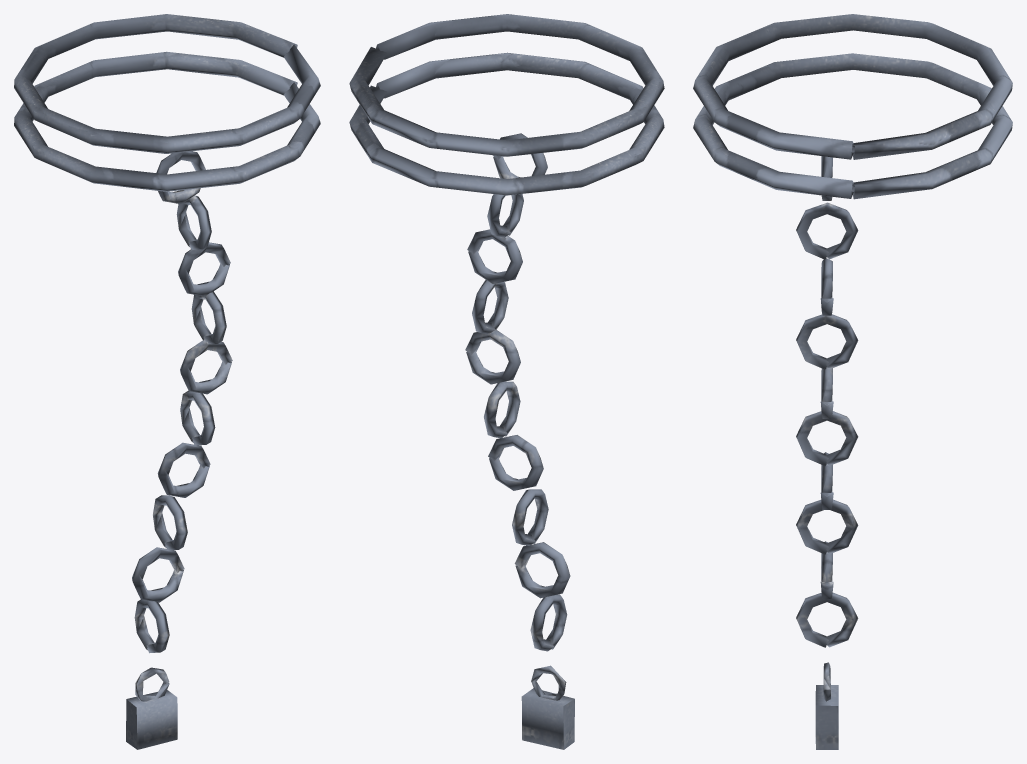
Rendered from MatonImp_Cadena.fbx.
The picture shows the model from 3 angles, left to right: view 1: azimuth 30°, elevation 25°; view 2: azimuth 150°, elevation 25°; view 3: azimuth 270°, elevation 25°; orthographic projection. The views are drawn at different scales.
Visible parts, largest first — view 1: MatonImp_Cadena; view 2: MatonImp_Cadena; view 3: MatonImp_Cadena.
Boxes of the visible parts, left/top/right/bottom form: MatonImp_Cadena: left=14, top=14, right=320, bottom=749; MatonImp_Cadena: left=349, top=14, right=664, bottom=749; MatonImp_Cadena: left=693, top=14, right=1012, bottom=749.
Bounding box in the file's own units: 1.31 × 3.07 × 1.32.
